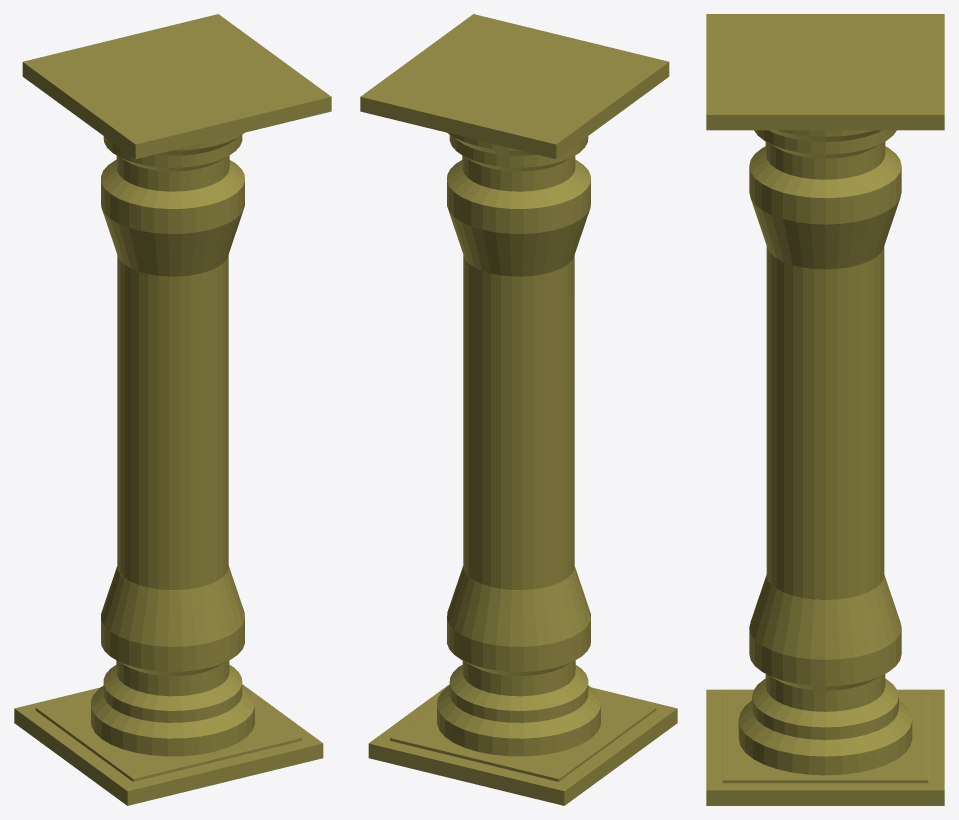
File: ANM_ENV_RUIN_Pillar.fbx
3 views of the same model, side by side, from view 1: azimuth 30°, elevation 25°; view 2: azimuth 150°, elevation 25°; view 3: azimuth 270°, elevation 25° (orthographic). The views are drawn at different scales.
Visible parts, largest first — view 1: Cylinder.001, Cylinder; view 2: Cylinder.001, Cylinder; view 3: Cylinder.001, Cylinder.
Boxes of the visible parts, x1=… form: Cylinder.001: x1=22, y1=14, x2=331, y2=590; Cylinder: x1=14, y1=566, x2=323, y2=805; Cylinder.001: x1=360, y1=14, x2=669, y2=590; Cylinder: x1=368, y1=566, x2=677, y2=805; Cylinder.001: x1=706, y1=14, x2=944, y2=599; Cylinder: x1=706, y1=575, x2=944, y2=805.
Size of the model in its own units: 430 by 1327 by 413.
